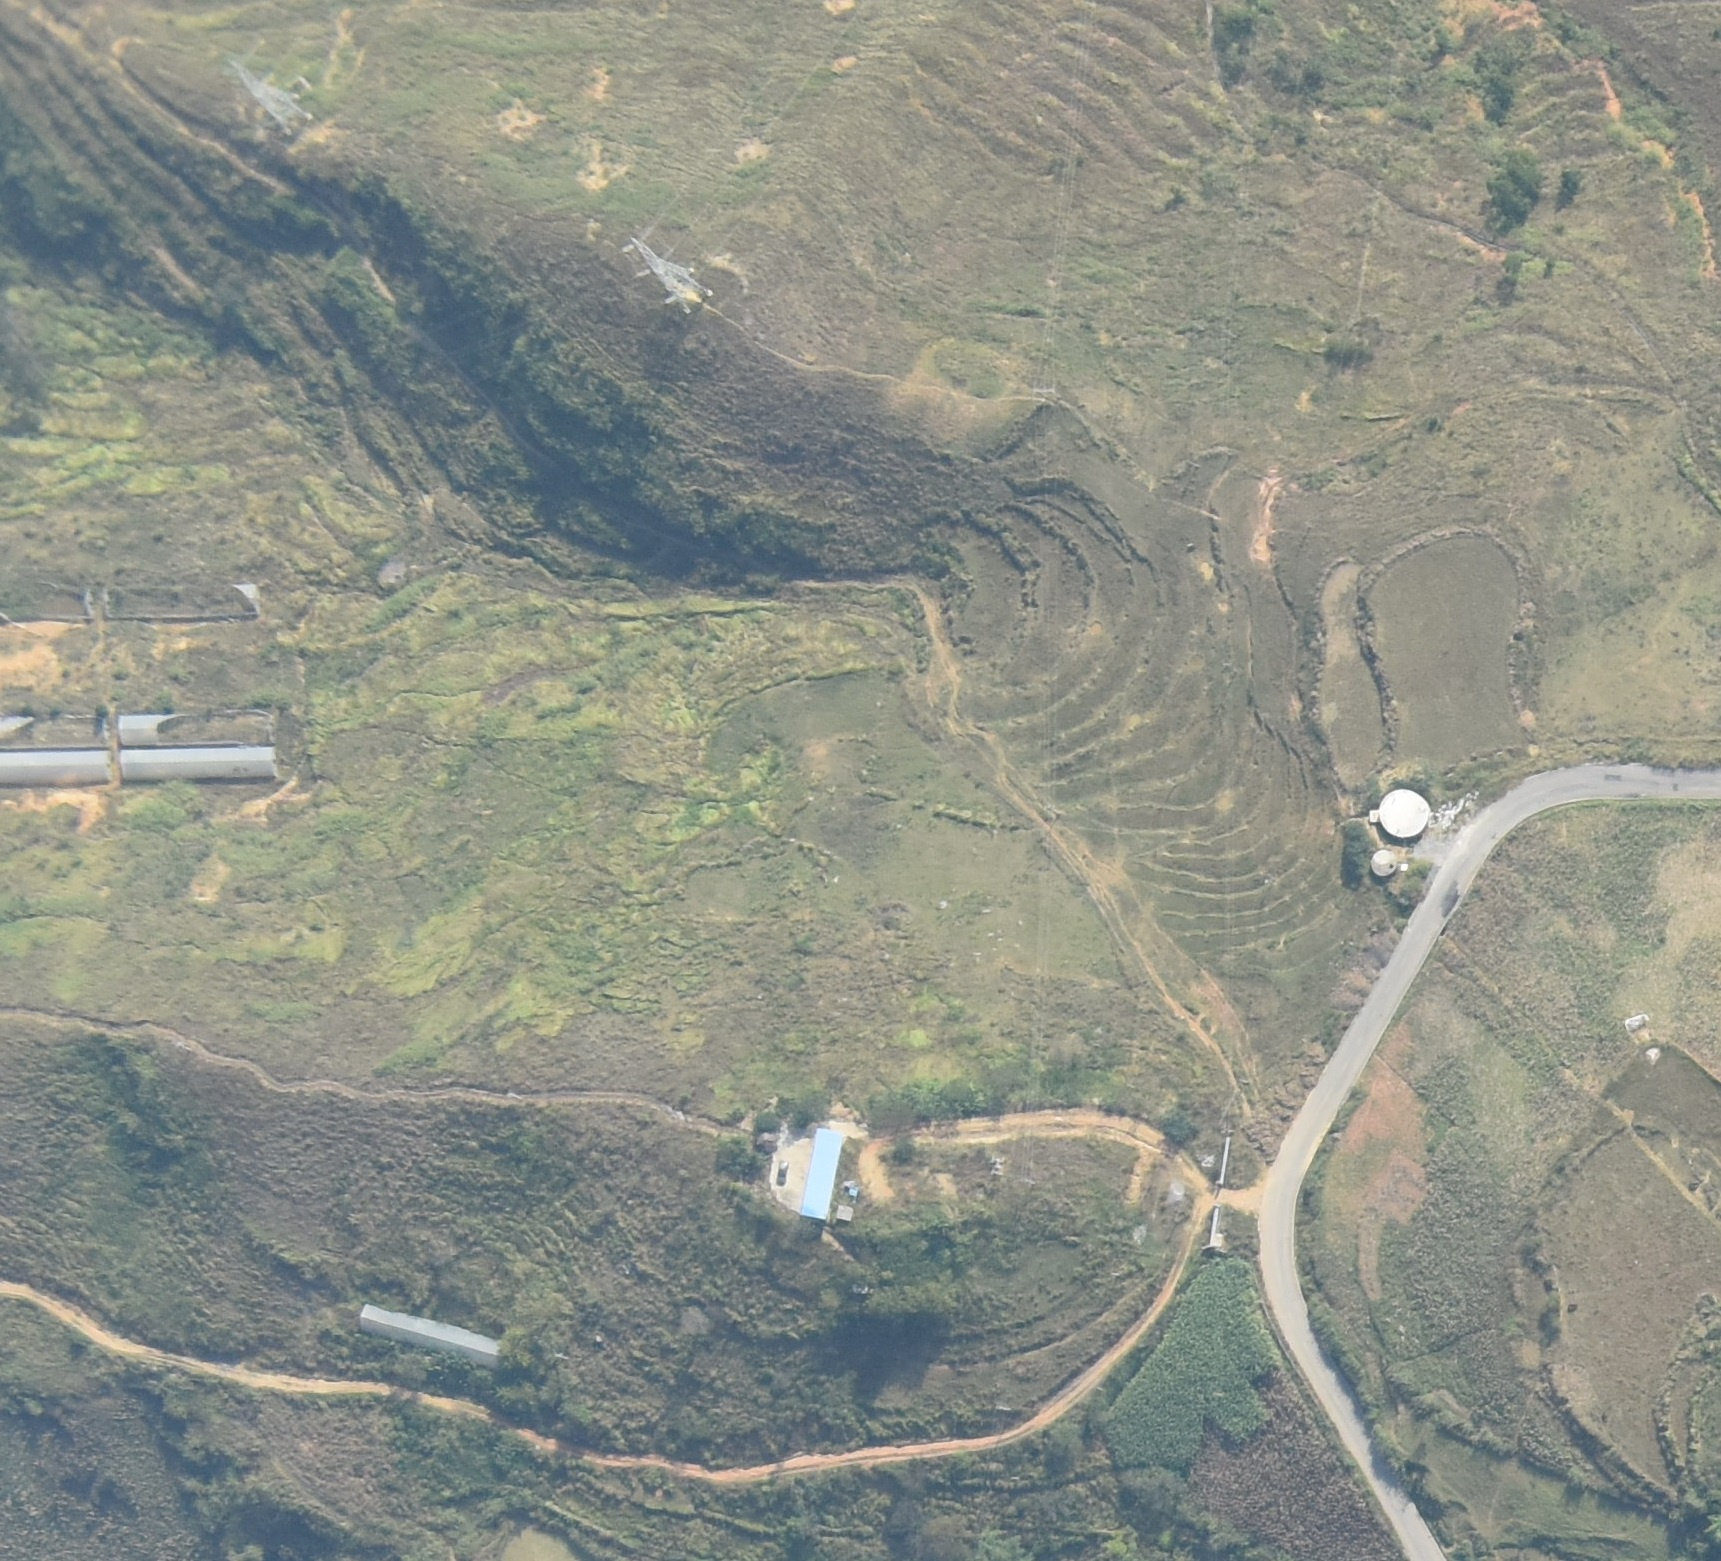building: (363, 1300, 502, 1372), (118, 748, 277, 775), (1, 750, 111, 783), (118, 712, 163, 744), (838, 1206, 855, 1224)
cable-tower: (220, 54, 319, 139), (618, 232, 720, 313), (1028, 379, 1061, 408), (992, 1401, 1012, 1416), (1021, 1176, 1037, 1188)
prefabricated-house: (802, 1125, 846, 1224)
vehicle: (777, 1159, 789, 1186)
well: (1375, 789, 1432, 840), (1370, 850, 1399, 879)
